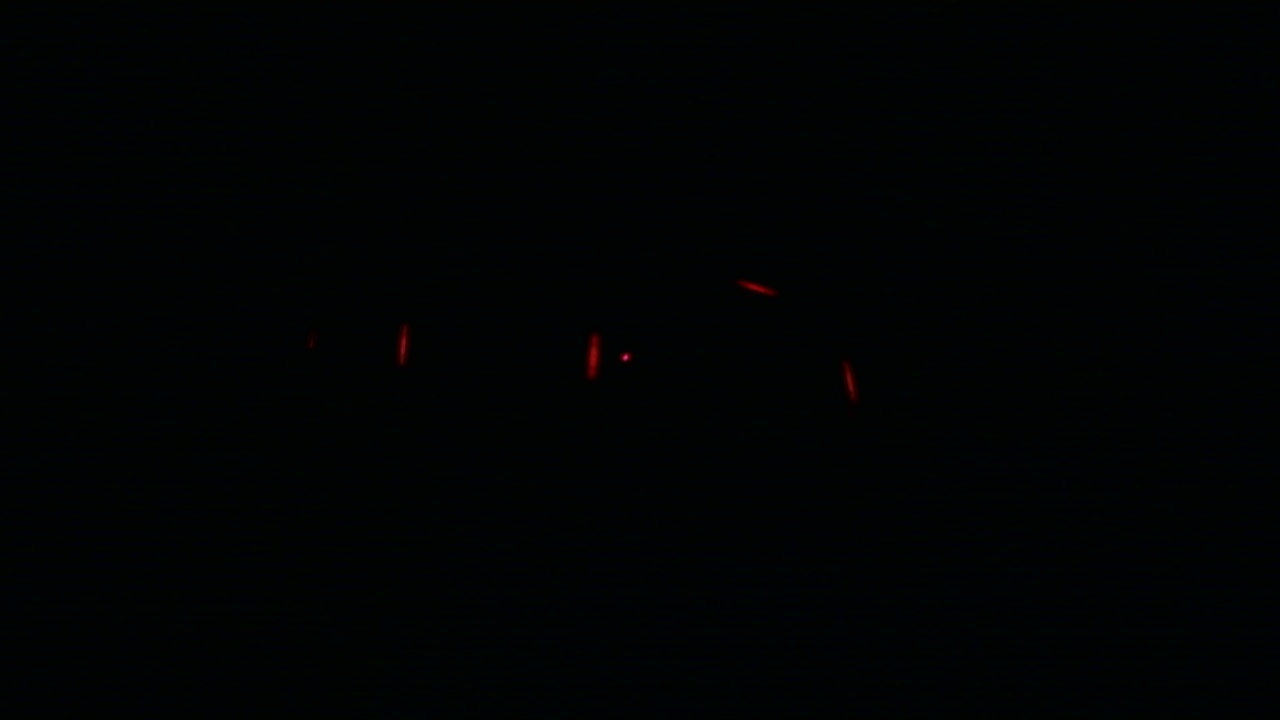lamp: (395, 325, 410, 381), (583, 331, 599, 381)
notpair2: (584, 335, 856, 406)
pair2: (395, 325, 601, 381)
